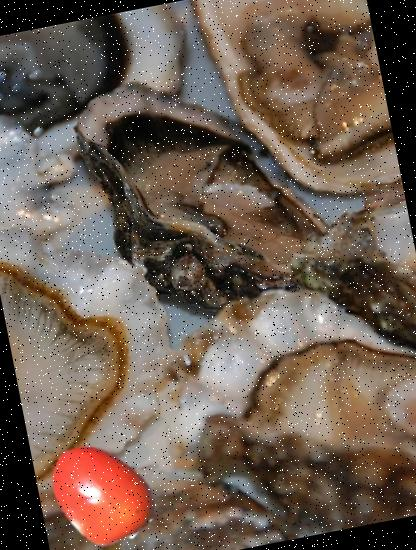Kaki: (36, 428, 165, 550)
